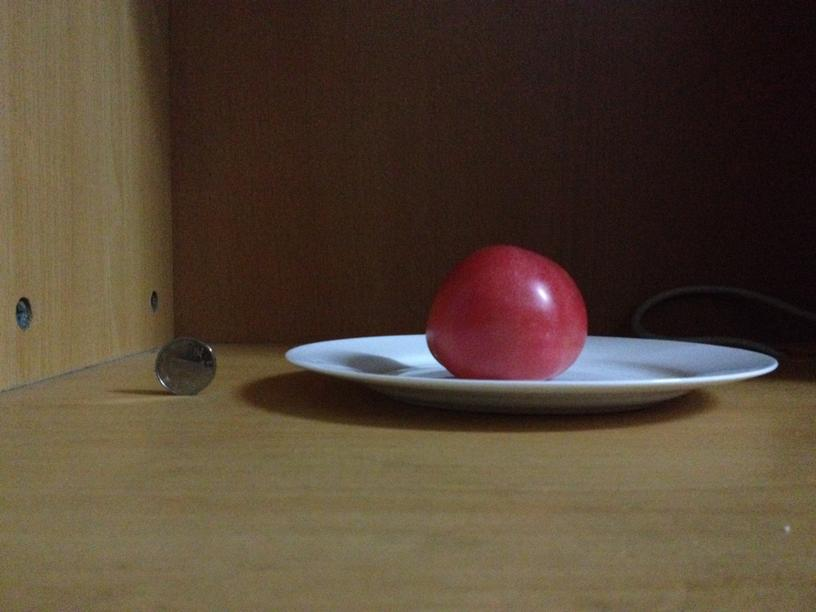coin: (148, 335, 219, 394)
tomato: (425, 244, 584, 381)
